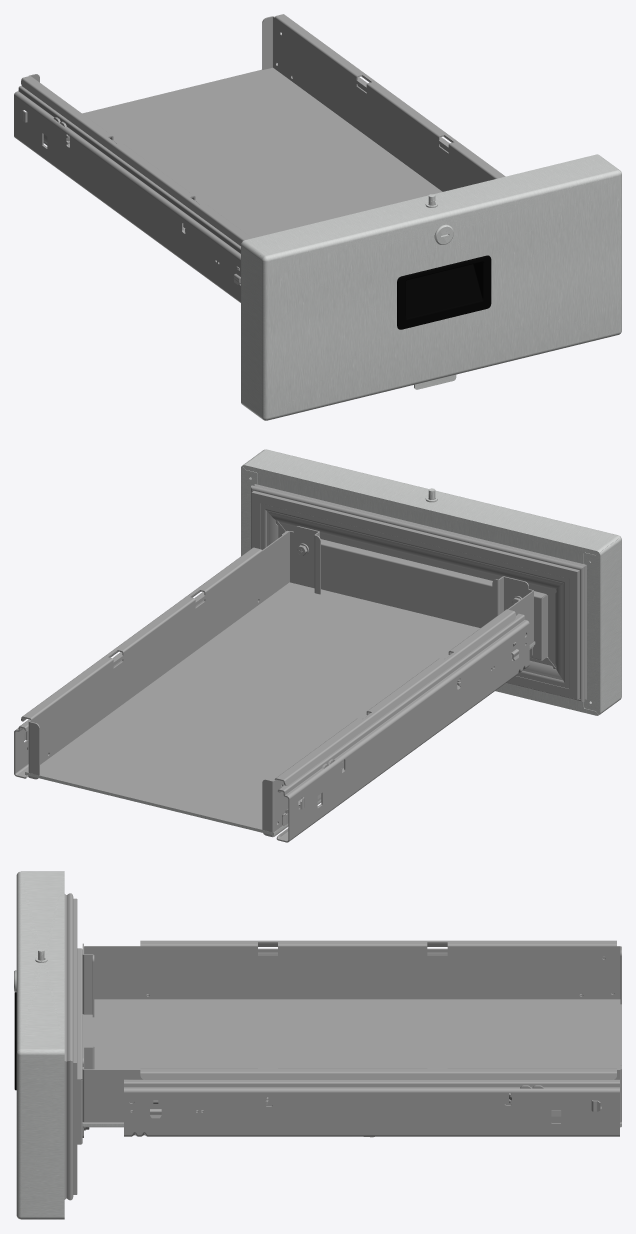
The picture shows the model from 3 angles, top to bottom: view 1: azimuth 30°, elevation 25°; view 2: azimuth 150°, elevation 25°; view 3: azimuth 270°, elevation 25°; orthographic projection. The views are drawn at different scales.
Parts seen in each view (by area): view 1: Drawer-02; view 2: Drawer-02; view 3: Drawer-02.
Boxes of the visible parts, box(x1,y1,x2,y2) form: Drawer-02: box(14, 14, 621, 420); Drawer-02: box(14, 449, 621, 842); Drawer-02: box(14, 871, 621, 1219).
Bounding box in the file's own units: 0.445 × 0.2213 × 0.6315.
4 materials, 3 textured.
